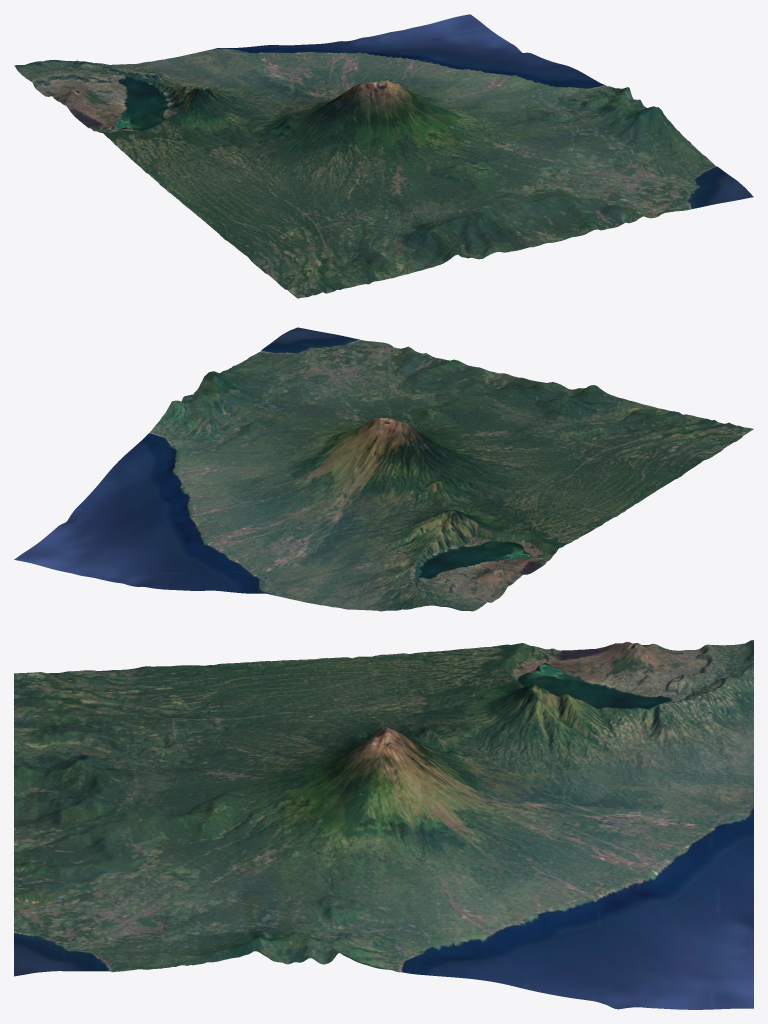
File: gunung_mount_agung_bali.glb
3 renders of one model, top to bottom at view 1: azimuth 30°, elevation 25°; view 2: azimuth 150°, elevation 25°; view 3: azimuth 270°, elevation 25°, orthographic. The views are drawn at different scales.
Parts seen in each view (by area): view 1: EXPORT_GOOGLE_SAT_WM; view 2: EXPORT_GOOGLE_SAT_WM; view 3: EXPORT_GOOGLE_SAT_WM.
Boxes of the visible parts, bbox=[...] form: EXPORT_GOOGLE_SAT_WM: bbox=[14, 14, 753, 298]; EXPORT_GOOGLE_SAT_WM: bbox=[14, 327, 753, 611]; EXPORT_GOOGLE_SAT_WM: bbox=[14, 640, 753, 1009].
Size of the model in its own units: 31798 by 6405 by 34244.
Materials: 1 (1 with a texture image).
